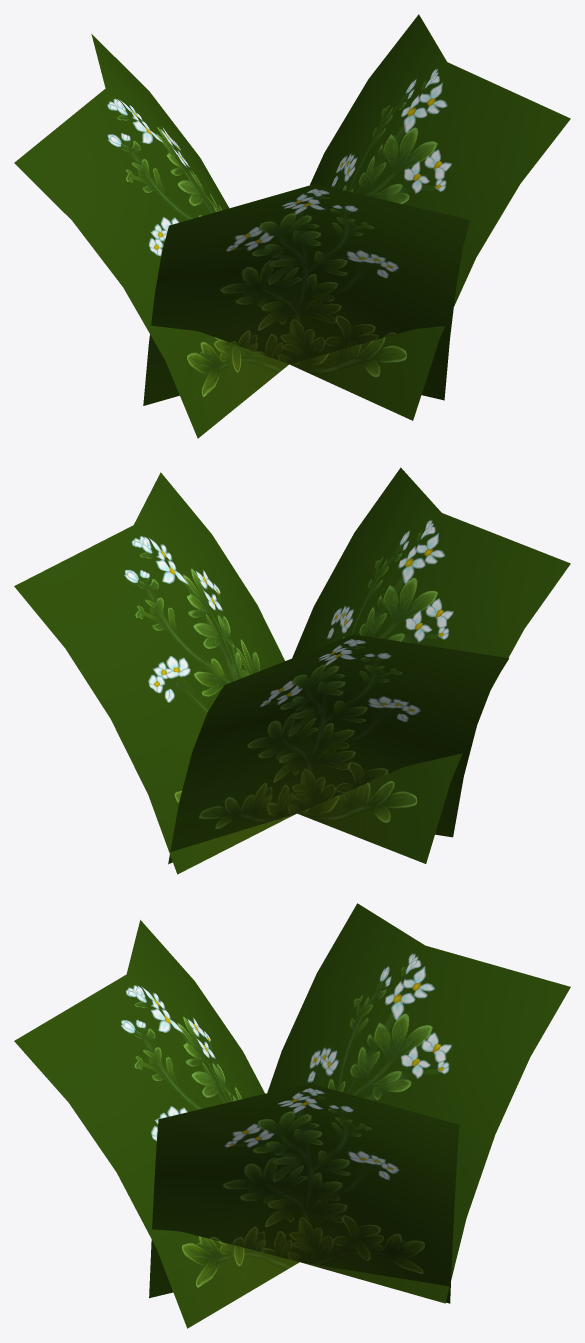
The model's file is Grass_3.FBX.
3 views of the same model, one above another, from view 1: azimuth 30°, elevation 25°; view 2: azimuth 150°, elevation 25°; view 3: azimuth 270°, elevation 25° (orthographic). The views are drawn at different scales.
Parts seen in each view (by area): view 1: Grass_3; view 2: Grass_3; view 3: Grass_3.
Boxes of the visible parts, x1,y1,x2,y2 form: Grass_3: (14,14,570,438); Grass_3: (14,467,570,874); Grass_3: (14,903,570,1328).
Size of what is drawn, in the model's own units: 118 by 125 by 68.42.
